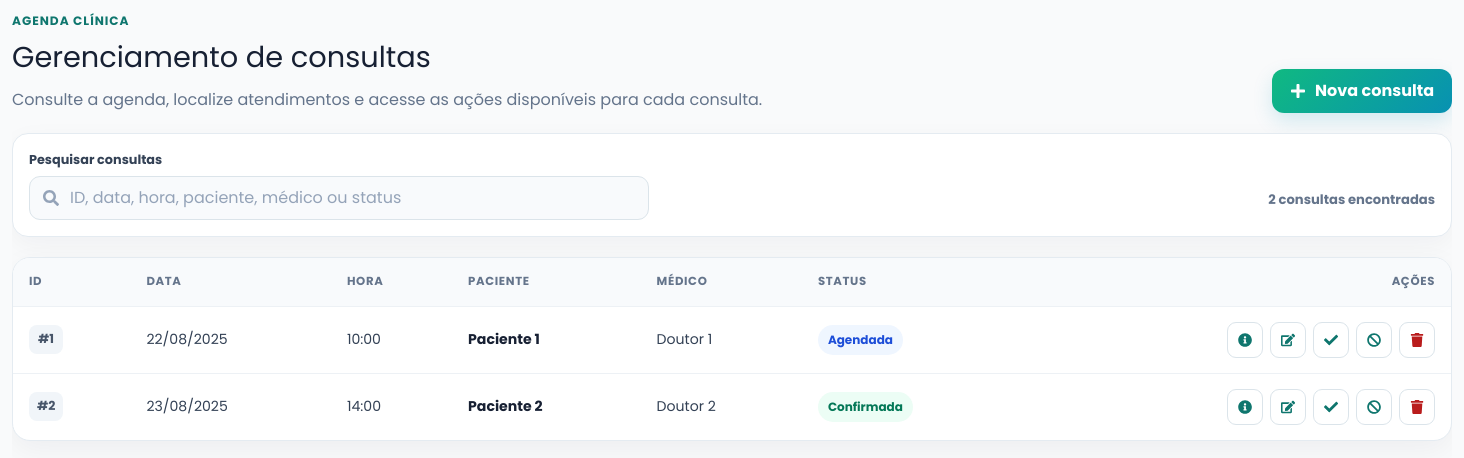
Test: AppointmentList workspace › filters by doctor as part of the approved search contract
The width and height of the screenshot is (1464, 458).
Type "Doutor 1" into the search field labelled "Pesquisar consultas" at (339, 198), box [29,176,649,220]
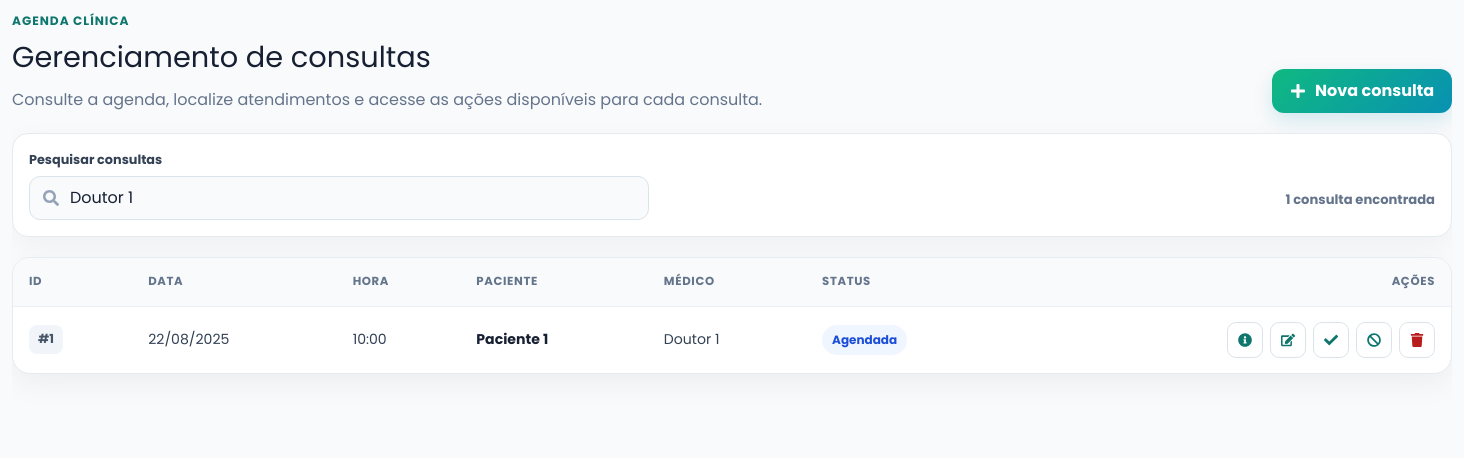
Expected: the text "Paciente 1" is shown, [476,329,548,349]
Expected: the text "Paciente 2" is gone
